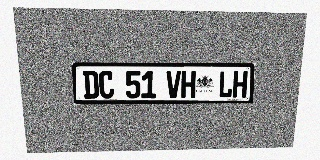1: (141, 71, 156, 98)
5: (126, 71, 141, 98)
C: (98, 71, 114, 99)
D: (83, 71, 99, 99)
H: (232, 71, 248, 98), (181, 71, 196, 98)
L: (218, 71, 233, 98)
V: (166, 71, 181, 98)
